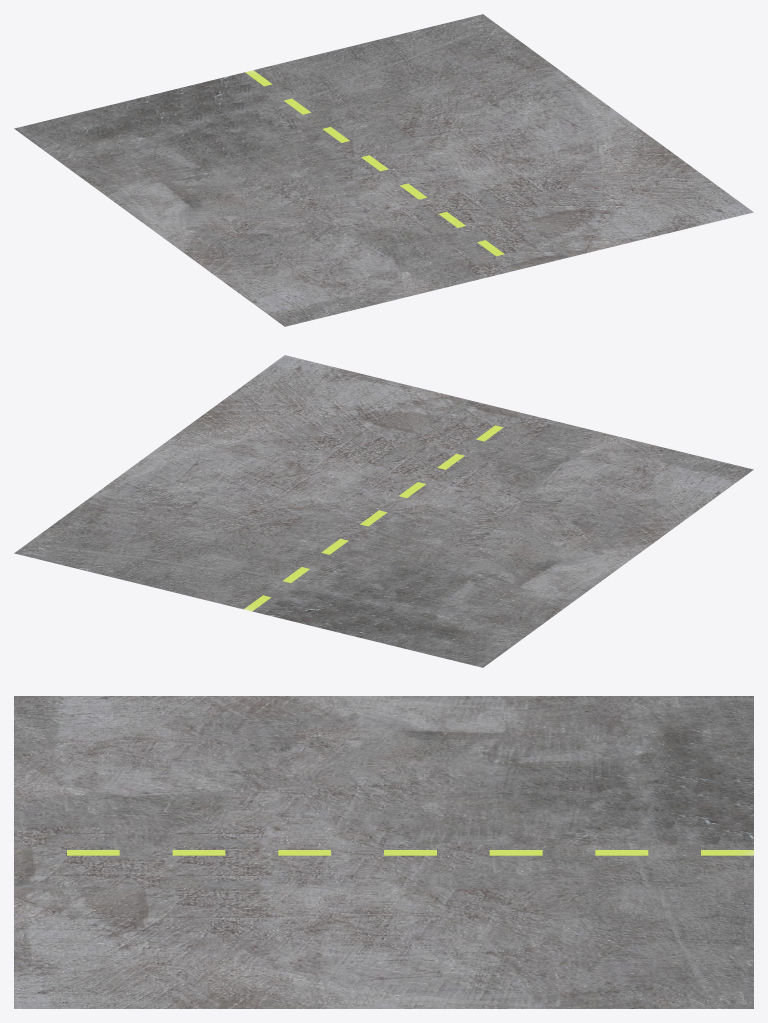
The model's file is Piso_010.fbx.
The picture shows the model from 3 angles, top to bottom: view 1: azimuth 30°, elevation 25°; view 2: azimuth 150°, elevation 25°; view 3: azimuth 270°, elevation 25°; orthographic projection. The views are drawn at different scales.
Parts seen in each view (by area): view 1: Plane; view 2: Plane; view 3: Plane.
Boxes of the visible parts, box(x1,y1,x2,y2) form: Plane: box(14, 14, 753, 326); Plane: box(14, 355, 753, 667); Plane: box(14, 696, 753, 1008).
Size of the model in its own units: 600 by 0.000188 by 600.
